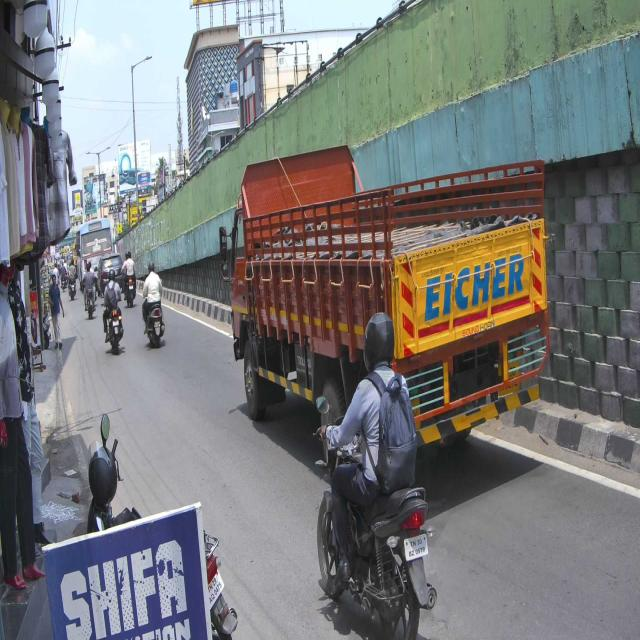single_rider: (313, 314, 438, 640)
